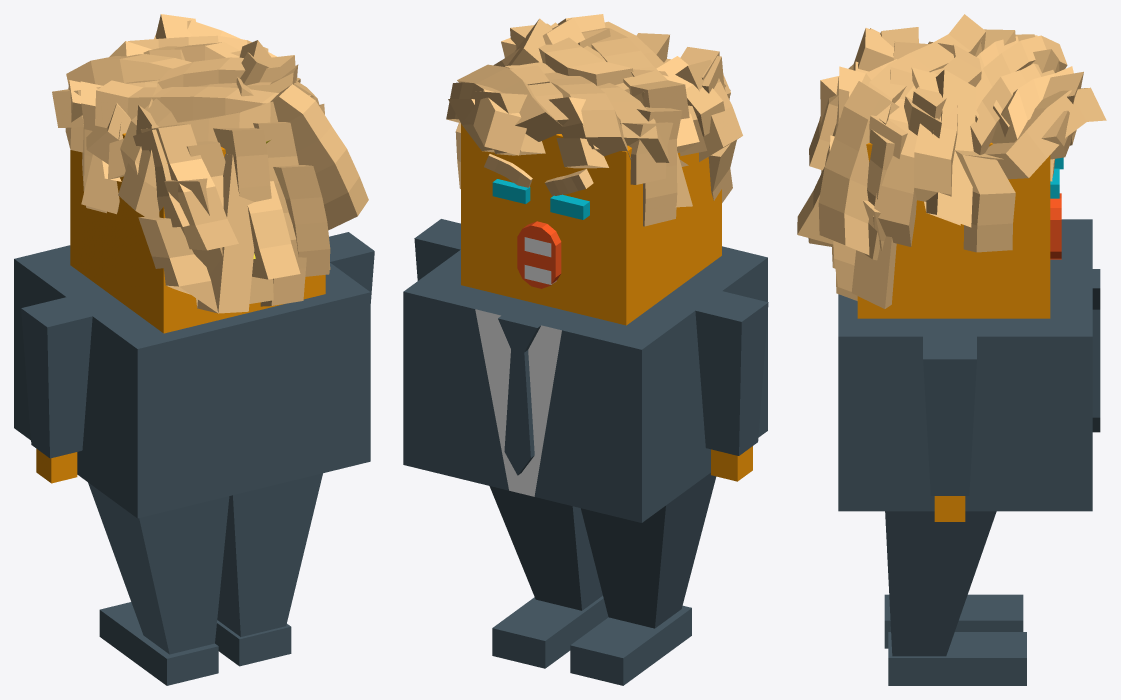
Rendered from scene_SBG1XQDQ60.glb.
The picture shows the model from 3 angles, left to right: view 1: azimuth 30°, elevation 25°; view 2: azimuth 150°, elevation 25°; view 3: azimuth 270°, elevation 25°; orthographic projection. The views are drawn at different scales.
Parts seen in each view (by area): view 1: group1450933295, group2014280831, group1229799085, group1677212228, group1078877459, group1540372339, group619907674, group1038475850, group1730435137, group1181682708, group192004723, group977126571 (+23 smaller); view 2: group1450933295, group1677212228, group2014280831, group1078877459, group1229799085, group1181682708, group1363592989, group1038475850, group705729108, group2438287, group1743145133, group570713141 (+26 smaller); view 3: group1450933295, group1677212228, group1229799085, group1910566380, group619907674, group1363592989, group117845452, group1743145133, group1076799506, group488059573, group568975553, group2146179697 (+22 smaller).
Boxes of the visible parts, bbox=[...] form: group1450933295: bbox=[14, 245, 370, 518]; group2014280831: bbox=[88, 482, 229, 654]; group1229799085: bbox=[217, 473, 322, 636]; group1677212228: bbox=[70, 133, 325, 333]; group1078877459: bbox=[21, 297, 92, 458]; group1540372339: bbox=[138, 154, 254, 313]; group619907674: bbox=[270, 84, 368, 230]; group1038475850: bbox=[95, 80, 310, 127]; group1730435137: bbox=[140, 124, 238, 250]; group1181682708: bbox=[99, 602, 218, 685]; group192004723: bbox=[273, 165, 330, 276]; group977126571: bbox=[213, 128, 273, 303]; group1450933295: bbox=[403, 246, 767, 522]; group1677212228: bbox=[461, 124, 721, 325]; group2014280831: bbox=[581, 473, 716, 628]; group1078877459: bbox=[695, 291, 768, 455]; group1229799085: bbox=[489, 486, 602, 610]; group1181682708: bbox=[570, 605, 691, 685]; group1363592989: bbox=[492, 596, 608, 668]; group1038475850: bbox=[581, 28, 689, 119]; group705729108: bbox=[504, 62, 631, 159]; group2438287: bbox=[504, 349, 534, 475]; group1743145133: bbox=[446, 82, 526, 155]; group570713141: bbox=[510, 23, 633, 86]; group1450933295: bbox=[838, 219, 1092, 511]; group1677212228: bbox=[857, 142, 1050, 318]; group1229799085: bbox=[885, 511, 996, 656]; group1910566380: bbox=[923, 336, 976, 495]; group619907674: bbox=[818, 81, 899, 255]; group1363592989: bbox=[888, 632, 1026, 685]; group117845452: bbox=[955, 150, 1015, 252]; group1743145133: bbox=[985, 87, 1106, 179]; group1076799506: bbox=[873, 67, 917, 246]; group488059573: bbox=[924, 69, 976, 227]; group568975553: bbox=[911, 67, 957, 201]; group2146179697: bbox=[851, 115, 907, 308].
Bounding box in the file's own units: 0.5 × 0.8788 × 0.4017.
